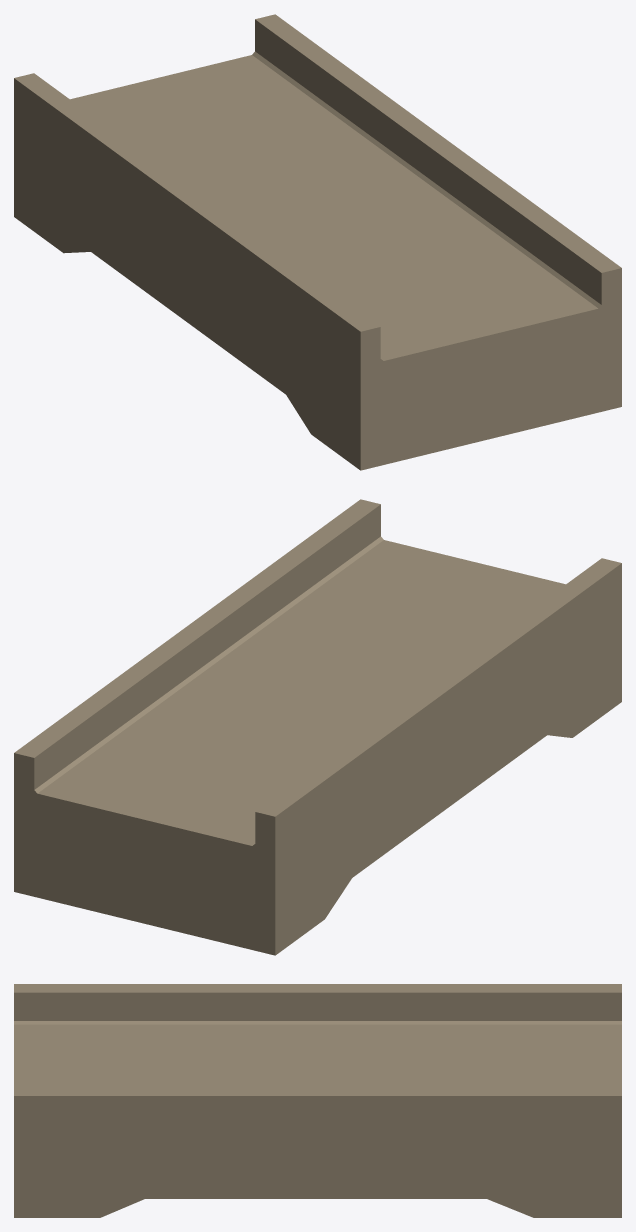
File: Ponte 1.fbx
The picture shows the model from 3 angles, top to bottom: view 1: azimuth 30°, elevation 25°; view 2: azimuth 150°, elevation 25°; view 3: azimuth 270°, elevation 25°; orthographic projection. The views are drawn at different scales.
Parts seen in each view (by area): view 1: Ponte.001; view 2: Ponte.001; view 3: Ponte.001.
Boxes of the visible parts, box(x1,y1,x2,y2) form: Ponte.001: box(14, 14, 621, 470); Ponte.001: box(14, 499, 621, 955); Ponte.001: box(14, 984, 621, 1217).
Size of the model in its own units: 6.4 by 3.25 by 14.7.
